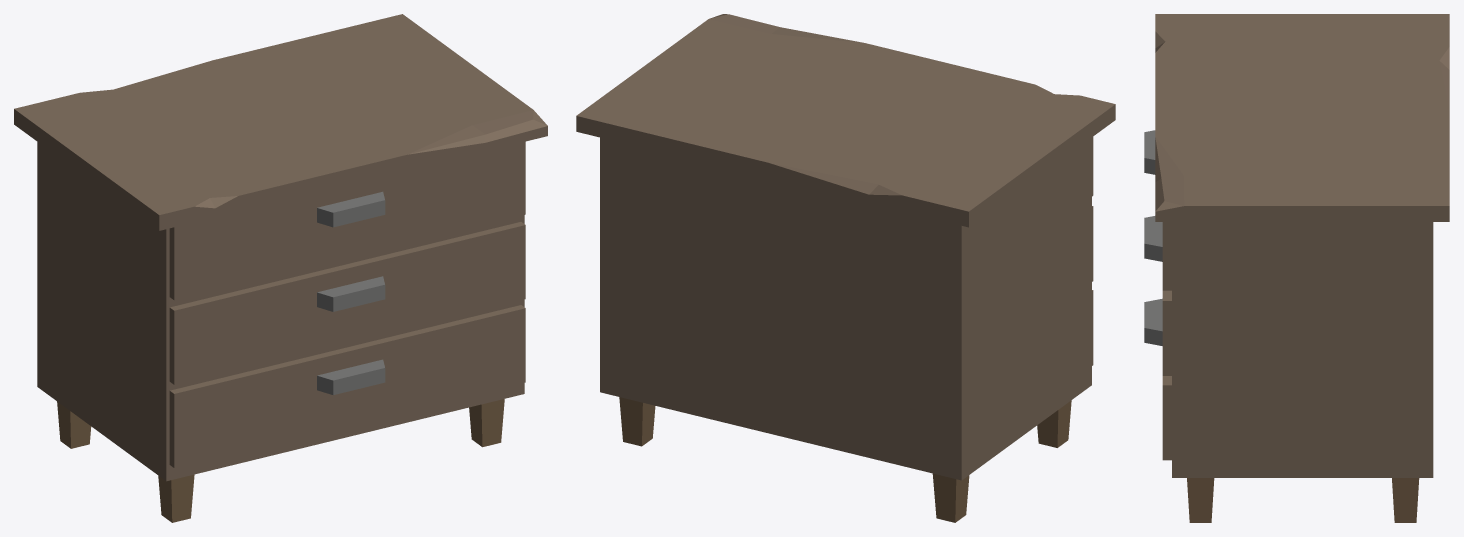
File: SM_Prop_Dresser_01_Combined.fbx
The picture shows the model from 3 angles, left to right: view 1: azimuth 30°, elevation 25°; view 2: azimuth 150°, elevation 25°; view 3: azimuth 270°, elevation 25°; orthographic projection.
Visible parts, largest first — view 1: SM_Prop_Dresser_01_Combined; view 2: SM_Prop_Dresser_01_Combined; view 3: SM_Prop_Dresser_01_Combined.
Part boxes in pixels (x1,y1,x2,y2): SM_Prop_Dresser_01_Combined: (14,14,547,522); SM_Prop_Dresser_01_Combined: (576,14,1115,522); SM_Prop_Dresser_01_Combined: (1144,14,1449,522).
Size of the model in its own units: 86.94 by 70 by 58.45.
